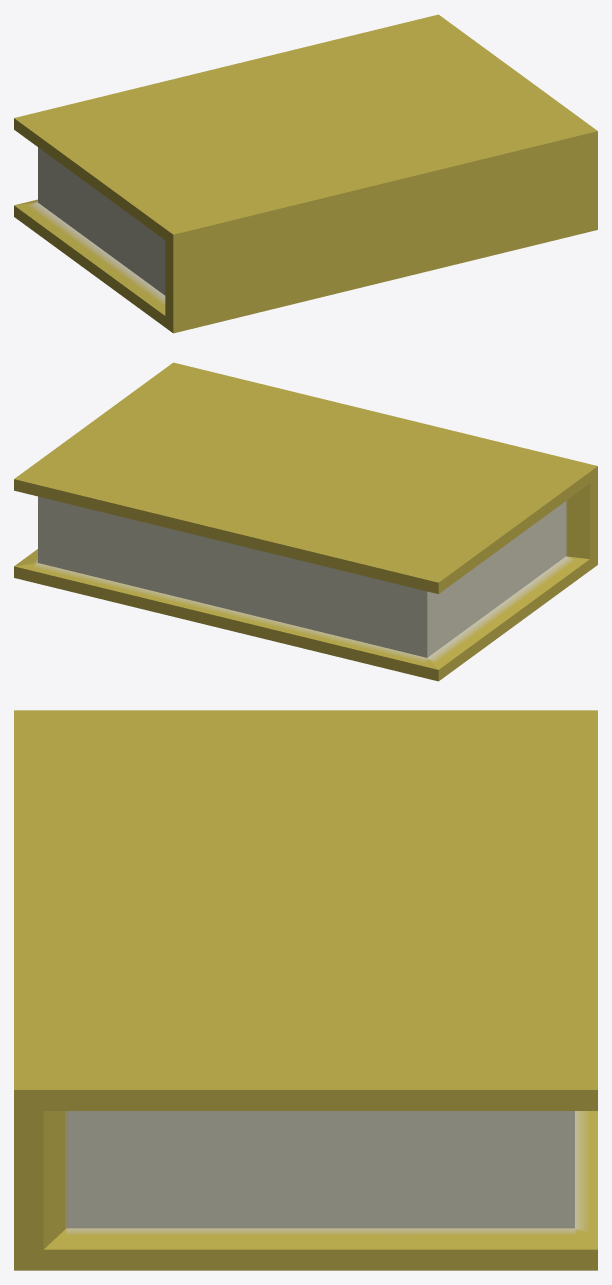
File: Boek.fbx
The picture shows the model from 3 angles, top to bottom: view 1: azimuth 30°, elevation 25°; view 2: azimuth 150°, elevation 25°; view 3: azimuth 270°, elevation 25°; orthographic projection. The views are drawn at different scales.
Parts seen in each view (by area): view 1: boek3; view 2: boek3; view 3: boek3.
Boxes of the visible parts, x1,y1,x2,y2 form: boek3: (14, 14, 597, 333); boek3: (14, 362, 597, 681); boek3: (14, 710, 597, 1270).
Size of the model in its own units: 23.69 by 5.26 by 15.4.
Materials: 1 (1 with a texture image).
